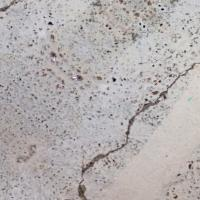crack: (72, 61, 199, 199)
